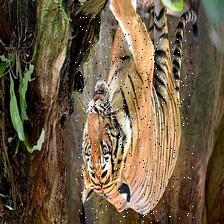tiger: (75, 17, 194, 223)
